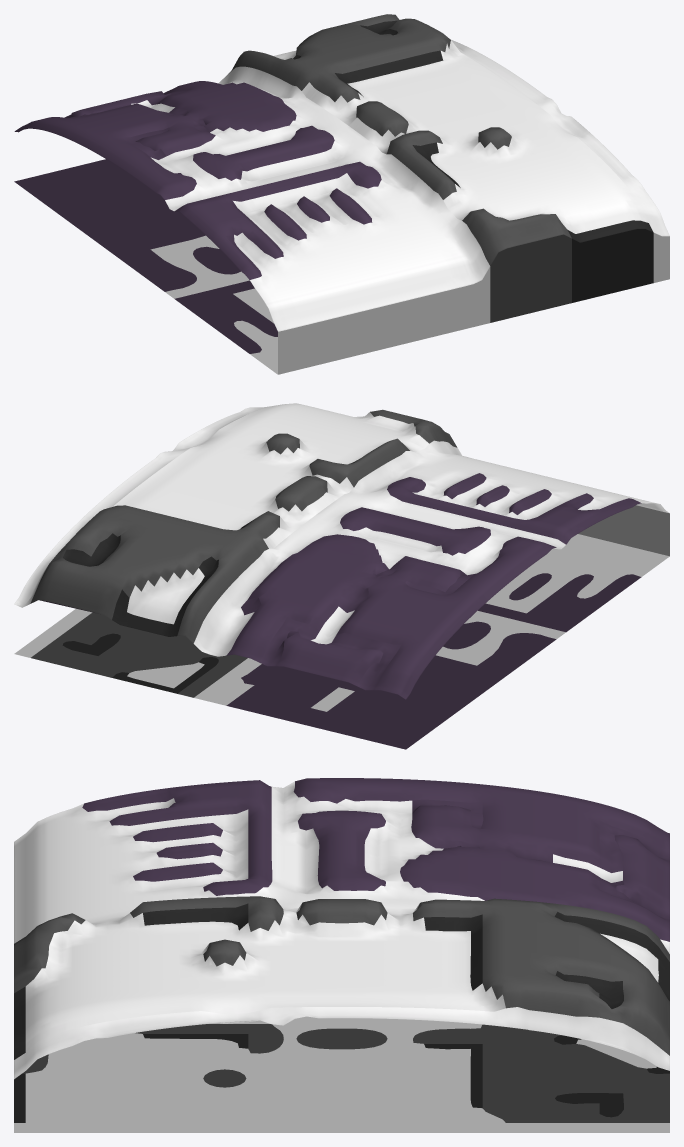
The model's file is delbld-hull-571.glb.
3 views of the same model, one above another, from view 1: azimuth 30°, elevation 25°; view 2: azimuth 150°, elevation 25°; view 3: azimuth 270°, elevation 25° (orthographic). The views are drawn at different scales.
Parts seen in each view (by area): view 1: delbld-hull-571; view 2: delbld-hull-571; view 3: delbld-hull-571.
Part boxes in pixels (x1,y1,x2,y2): delbld-hull-571: (14,14,669,374); delbld-hull-571: (14,403,669,749); delbld-hull-571: (14,778,669,1132).
Bounding box in the file's own units: 2 × 0.5301 × 2.33.
Materials: 6 (6 with a texture image).
